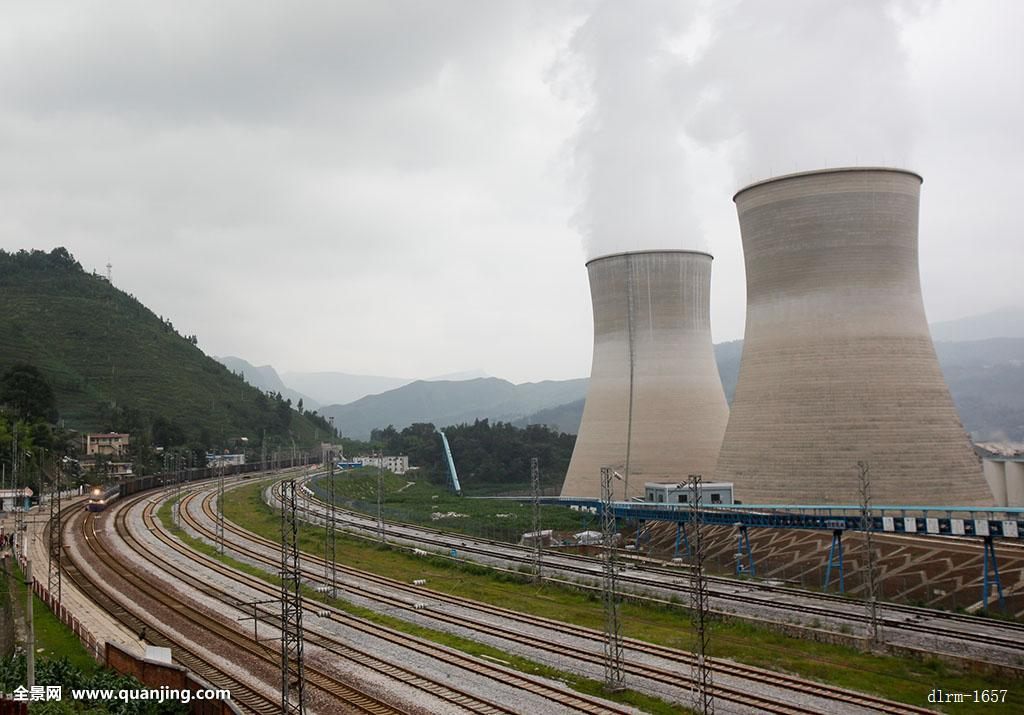dust: (697, 47, 937, 194), (526, 89, 717, 272)
